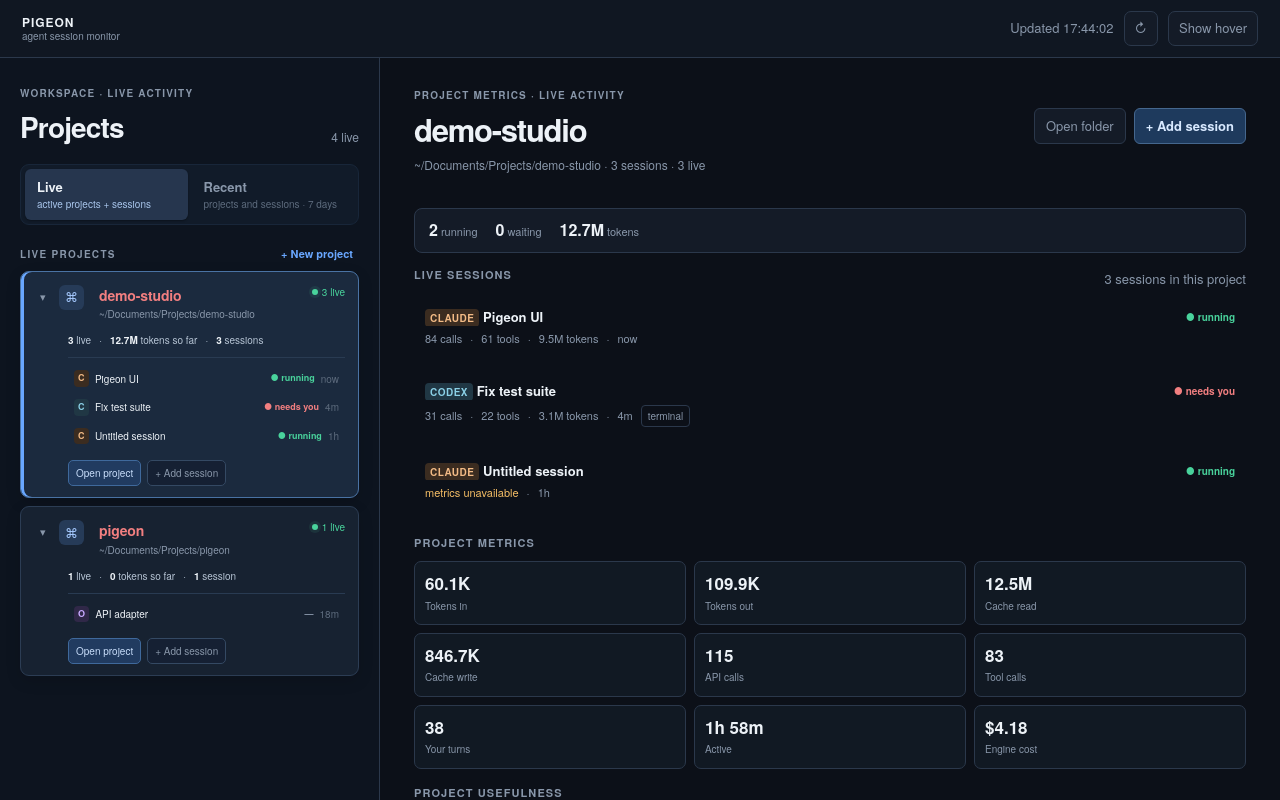
Test: the dashboard on startup › renders the host's sentence for a session whose metrics could not be counted
The width and height of the screenshot is (1280, 800).
Expected: the text "Untitled session" is shown, [95, 429, 166, 443]
Click the button "C Untitled session ● running 1h": (130, 436) [68, 422, 345, 449]
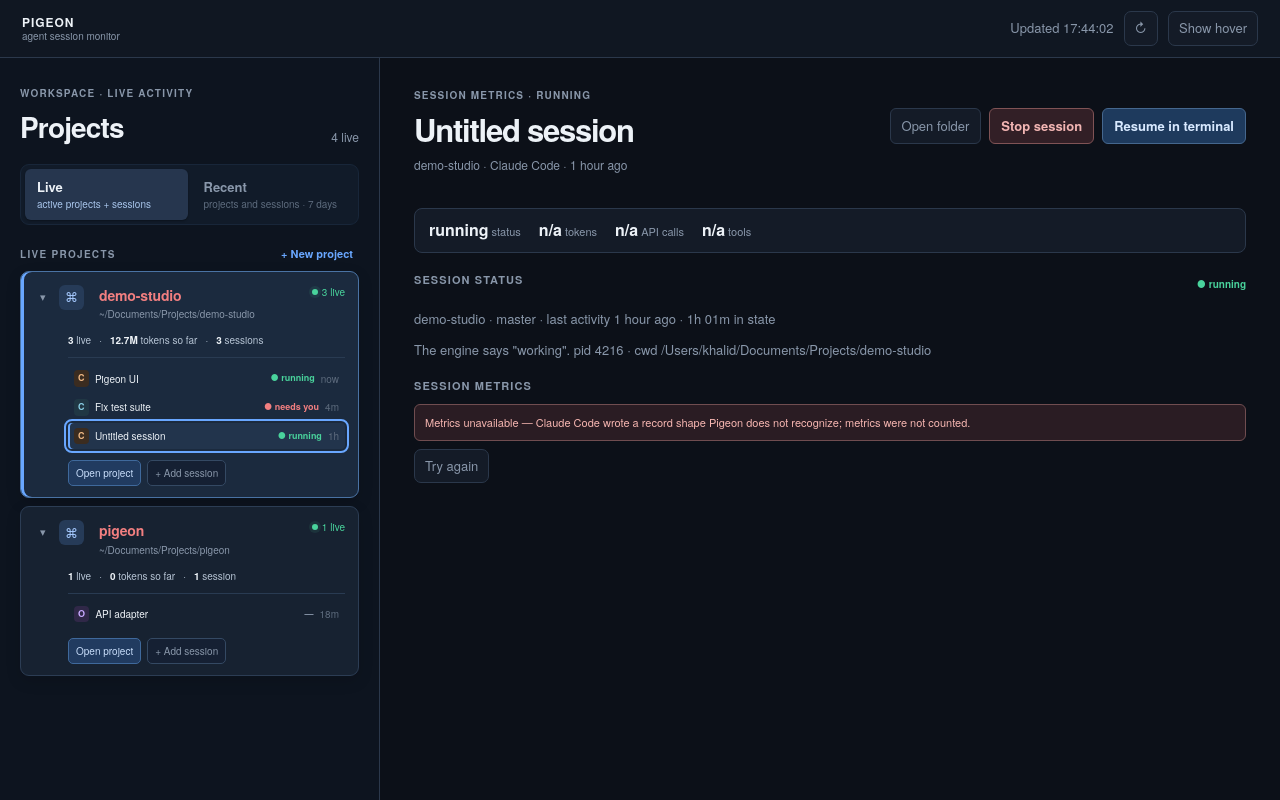
Expected: the message with test id "metrics-unavailable" shows "record shape Pigeon does not recognize", [536, 414, 970, 430]
